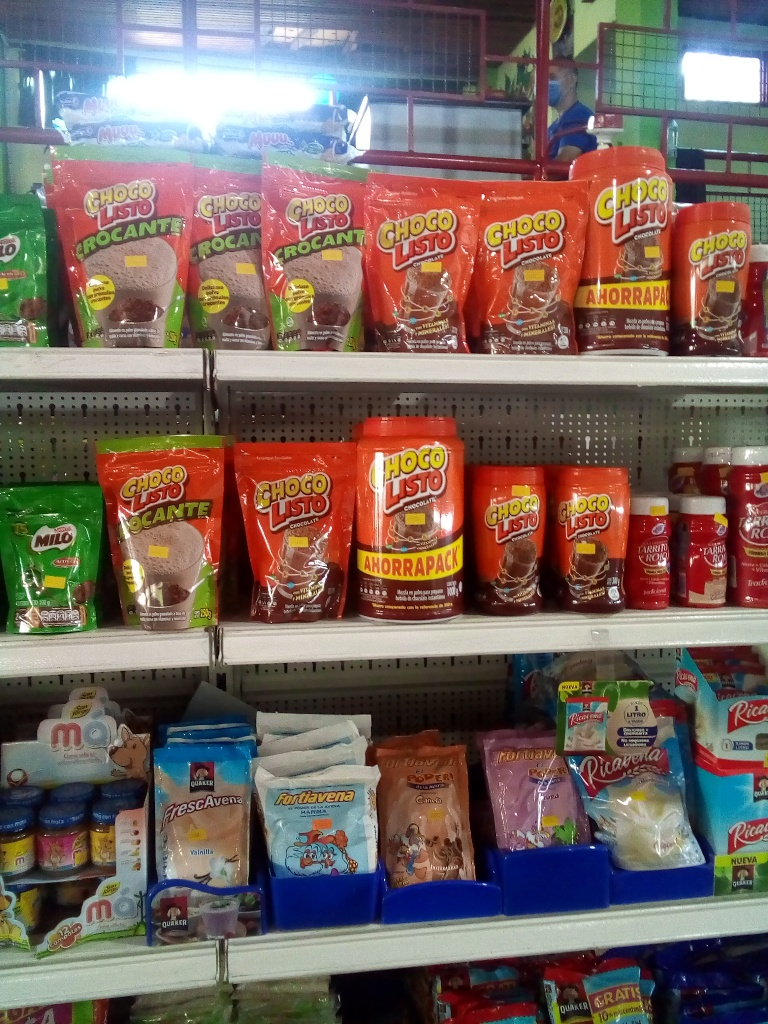COL0170103TRR00100: (571, 144, 677, 357)
COL0170203DYP10000: (2, 486, 104, 637)
